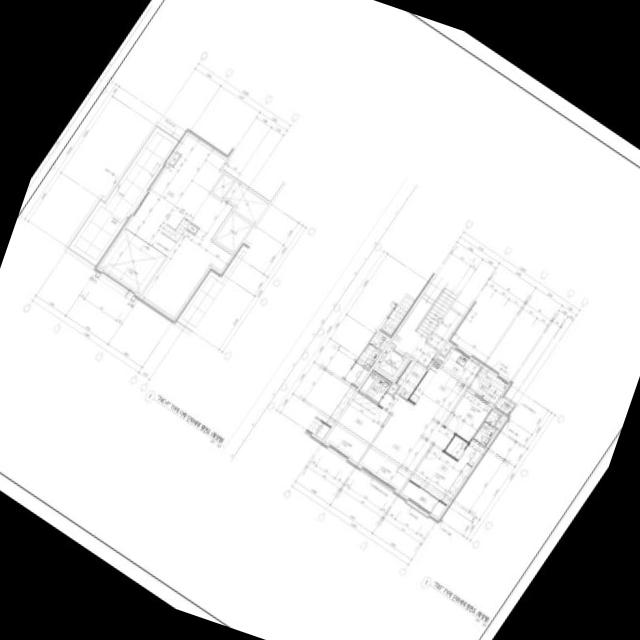background: (0, 0, 640, 640)
space_balconi: (73, 132, 173, 259), (468, 367, 506, 404), (400, 480, 437, 512), (495, 397, 513, 414)
space_bedroom: (409, 439, 483, 503), (324, 392, 389, 462), (443, 390, 491, 441)
space_dressroom: (444, 435, 466, 458)
space_elevator: (373, 344, 408, 380)
space_elevator_hall: (390, 323, 437, 366)
space_front: (395, 360, 425, 399)
space_kitchen: (409, 347, 479, 425)
space_living_room: (358, 392, 453, 490)
space_other: (125, 134, 225, 256), (141, 194, 232, 317), (98, 228, 165, 294), (225, 182, 268, 223), (214, 212, 251, 251), (433, 308, 461, 340), (211, 174, 233, 198), (427, 334, 444, 349), (431, 501, 445, 517), (168, 152, 179, 165), (439, 343, 450, 355), (494, 415, 504, 428), (186, 223, 197, 233), (387, 383, 397, 394)
space_staircase: (403, 274, 459, 338), (160, 217, 188, 241)
space_toilet: (358, 371, 389, 403), (472, 421, 496, 446), (484, 410, 499, 426)
